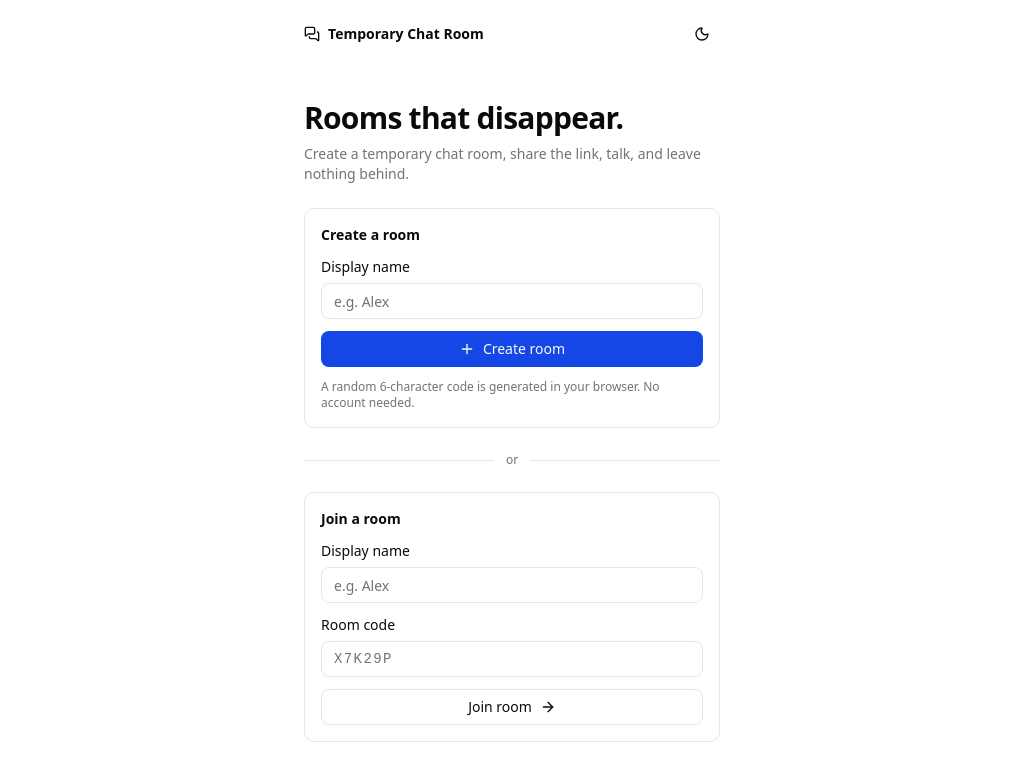
Scenario: HomePage create-room flow › creates a room and navigates to it
Type "Alex" into the field with id "create-name" at [512, 301], box [321,283,703,319]
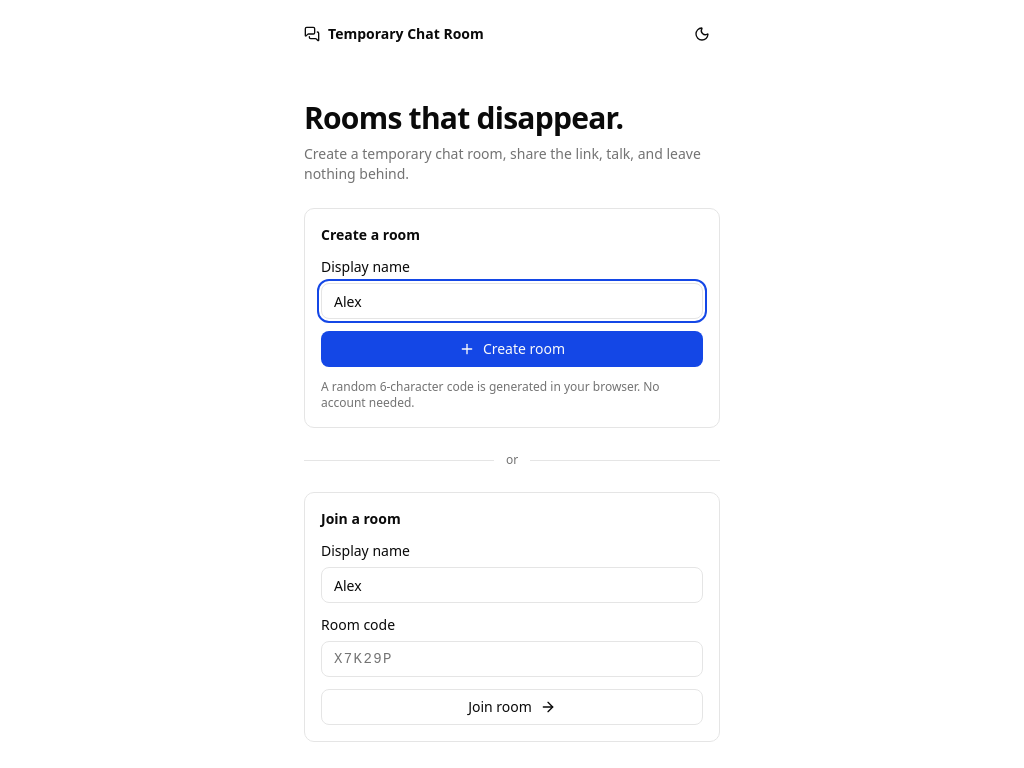
Click the button "Create room" at [512, 349], box [321,331,703,367]
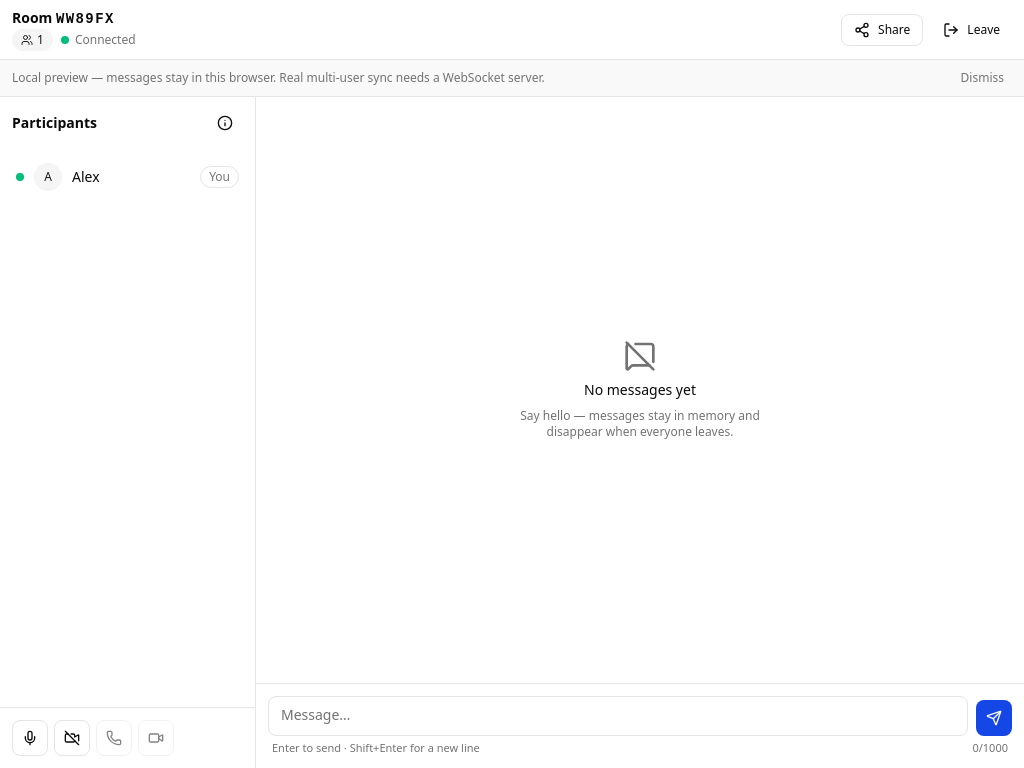
Expected: the message "Connected" is shown, [61,32,136,48]
Expected: the element named "Chat" is shown
